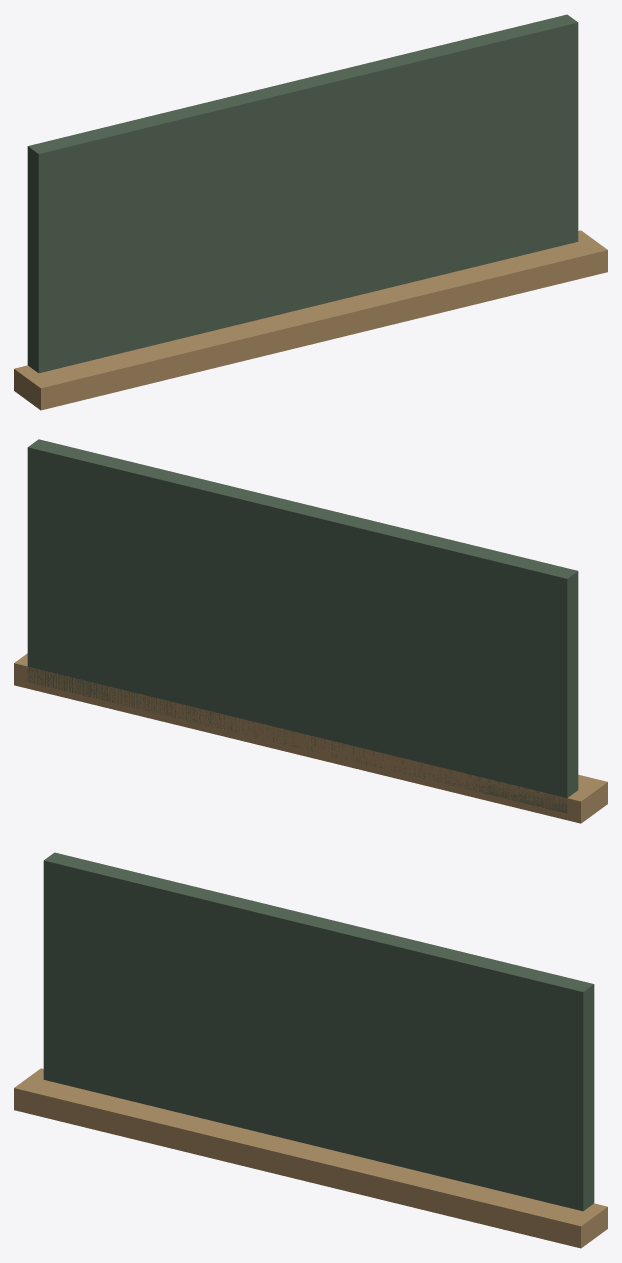
File: lwf_food_van_serving_flap_v1.glb
3 views of the same model, one above another, from view 1: azimuth 30°, elevation 25°; view 2: azimuth 150°, elevation 25°; view 3: azimuth 330°, elevation 25° (orthographic).
Visible parts, largest first — view 1: lwf_food_van_serving_flap_v1; view 2: lwf_food_van_serving_flap_v1; view 3: lwf_food_van_serving_flap_v1.
Part boxes in pixels (x1,y1,x2,y2): lwf_food_van_serving_flap_v1: (14,14,607,410); lwf_food_van_serving_flap_v1: (14,439,607,823); lwf_food_van_serving_flap_v1: (14,852,607,1248).
Size of the model in its own units: 2.68 by 1.09 by 0.22.
Materials: 1 (1 with a texture image).
